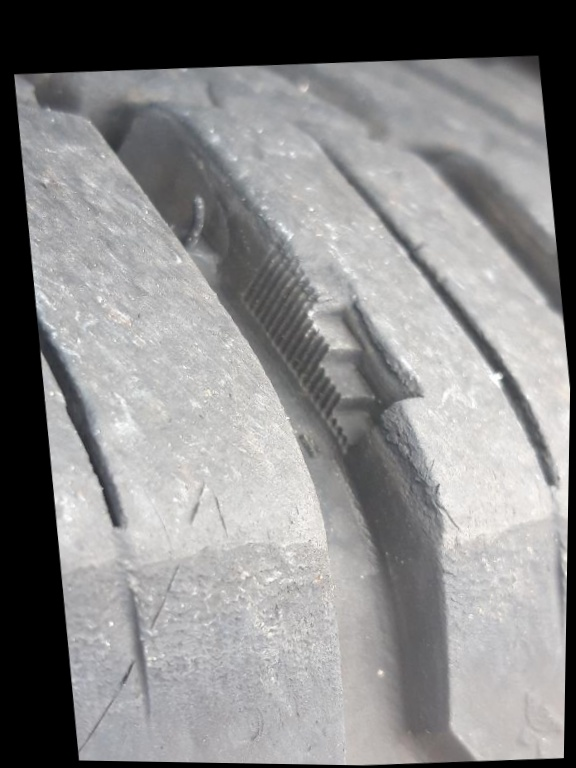temoin:80: (210, 213, 442, 472)
